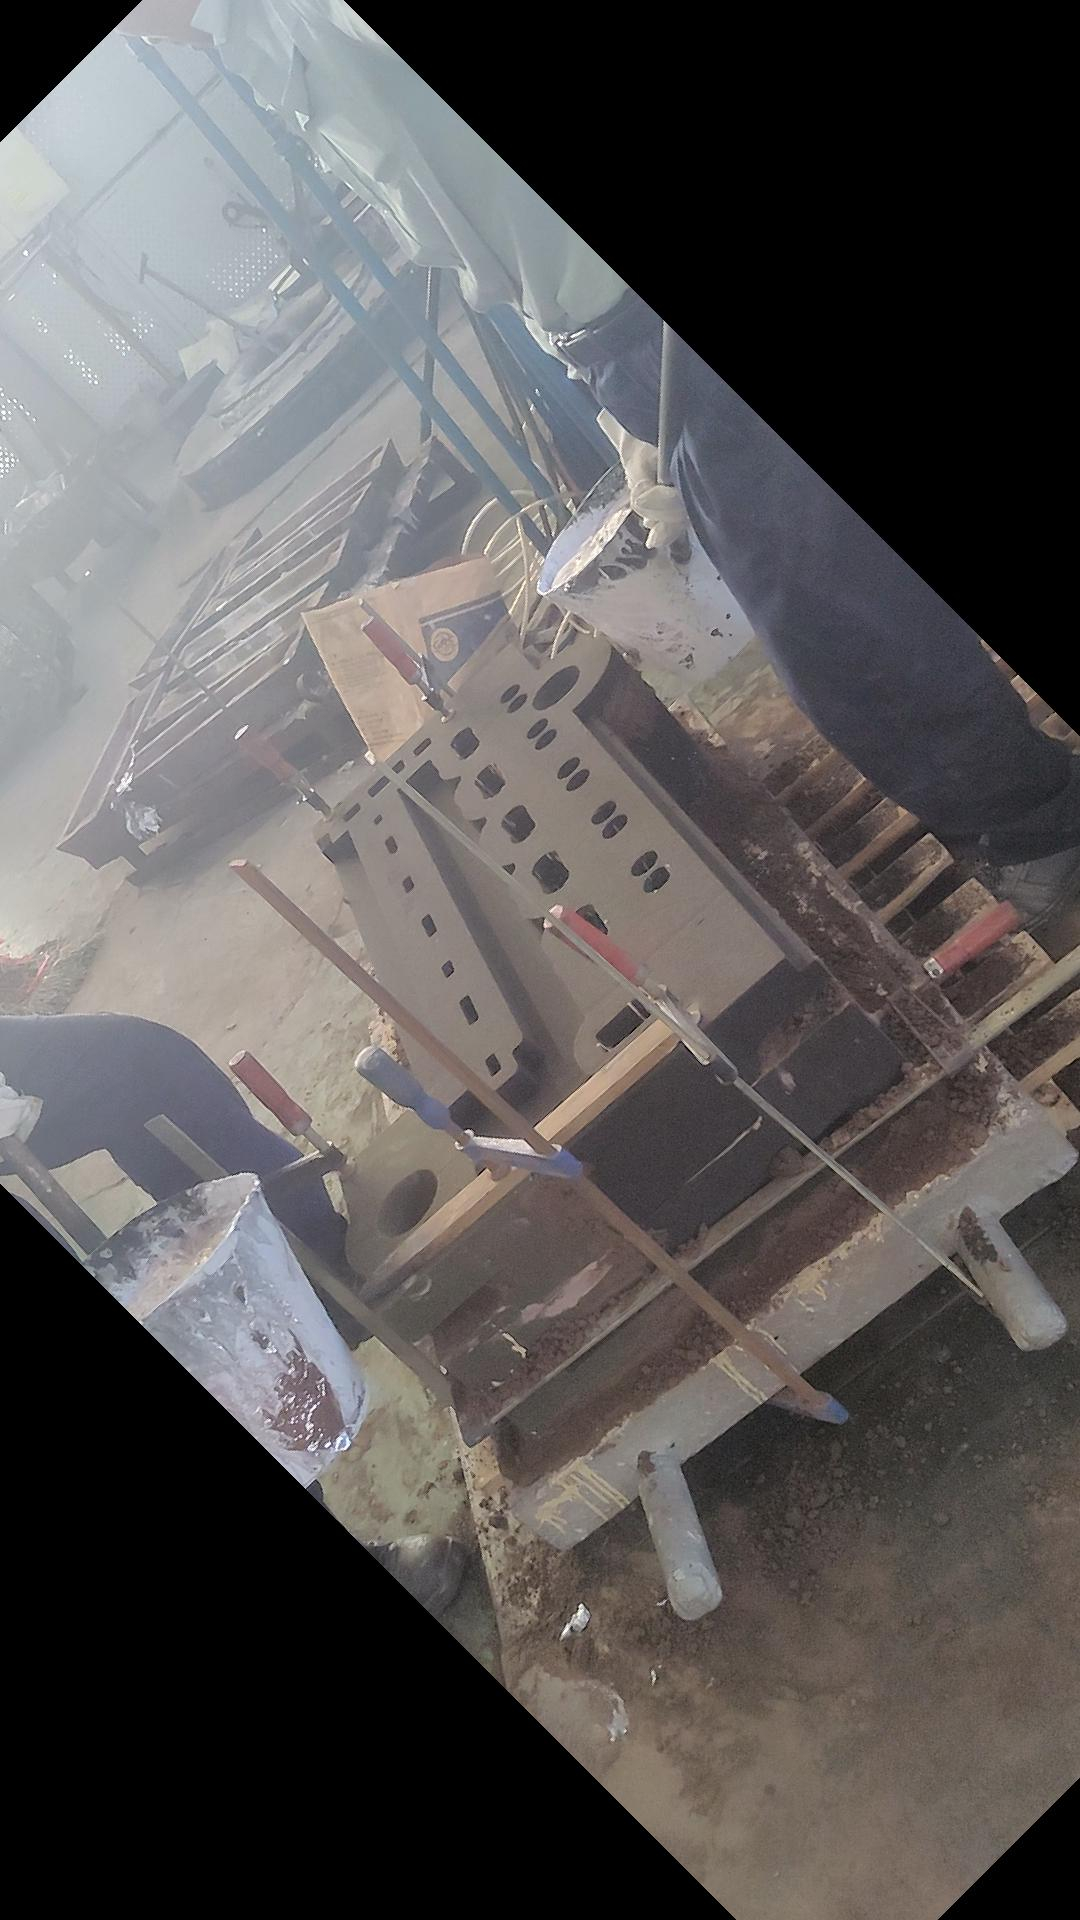pouring hole: (375, 1168, 438, 1237), (531, 665, 579, 712)
